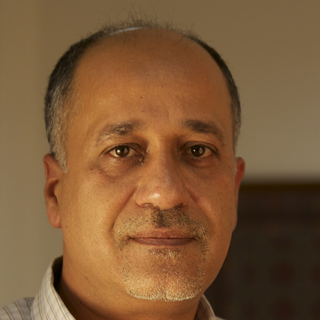eye: (174, 139, 222, 163), (96, 140, 145, 163)
